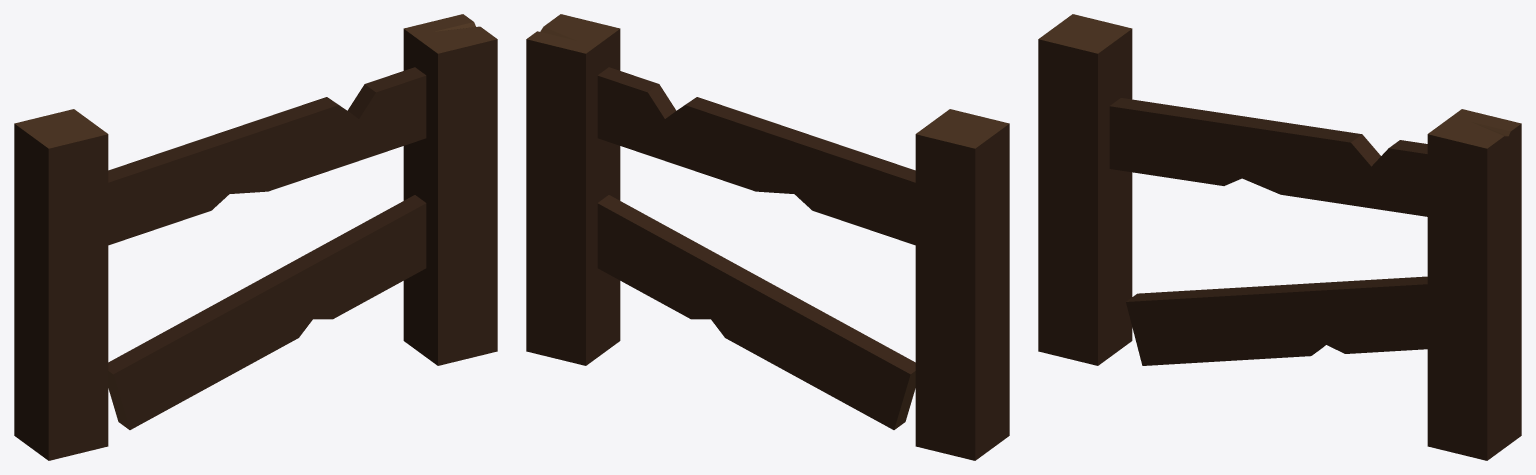
File: Cave_Lair_Wooden_Timber_Fence_Small_01.fbx
3 renders of one model, left to right at view 1: azimuth 30°, elevation 25°; view 2: azimuth 150°, elevation 25°; view 3: azimuth 330°, elevation 25°, orthographic.
Visible parts, largest first — view 1: Cave_Lair_Wooden_Timber_Fence_Small_01; view 2: Cave_Lair_Wooden_Timber_Fence_Small_01; view 3: Cave_Lair_Wooden_Timber_Fence_Small_01.
Part boxes in pixels (x1=…): Cave_Lair_Wooden_Timber_Fence_Small_01: x1=14, y1=14, x2=497, y2=460; Cave_Lair_Wooden_Timber_Fence_Small_01: x1=526, y1=14, x2=1009, y2=460; Cave_Lair_Wooden_Timber_Fence_Small_01: x1=1038, y1=14, x2=1521, y2=460.
Bounding box in the file's own units: 1.69 × 1.13 × 0.225.
